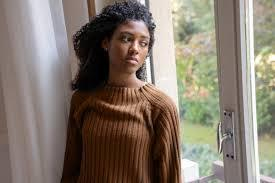Persons: (68, 0, 169, 86)
